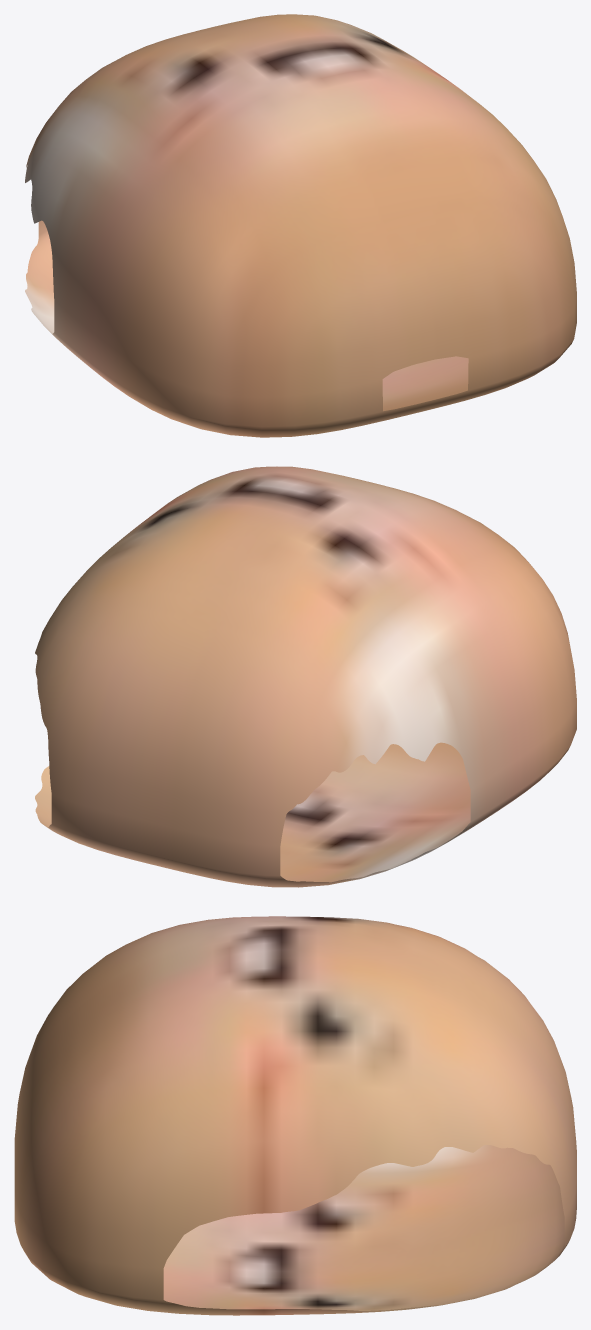
The model's file is T02_Peach_HappyTiny.fbx.
3 views of the same model, one above another, from view 1: azimuth 30°, elevation 25°; view 2: azimuth 150°, elevation 25°; view 3: azimuth 270°, elevation 25° (orthographic).
Visible parts, largest first — view 1: Catalog_T02_Peach_HappyTiny; view 2: Catalog_T02_Peach_HappyTiny; view 3: Catalog_T02_Peach_HappyTiny.
Boxes of the visible parts, x1,y1,x2,y2 form: Catalog_T02_Peach_HappyTiny: [25, 14, 576, 437]; Catalog_T02_Peach_HappyTiny: [35, 466, 576, 887]; Catalog_T02_Peach_HappyTiny: [14, 916, 576, 1315].
Size of the model in its own units: 0.675 by 0.4792 by 0.7589.
Materials: 1 (1 with a texture image).
